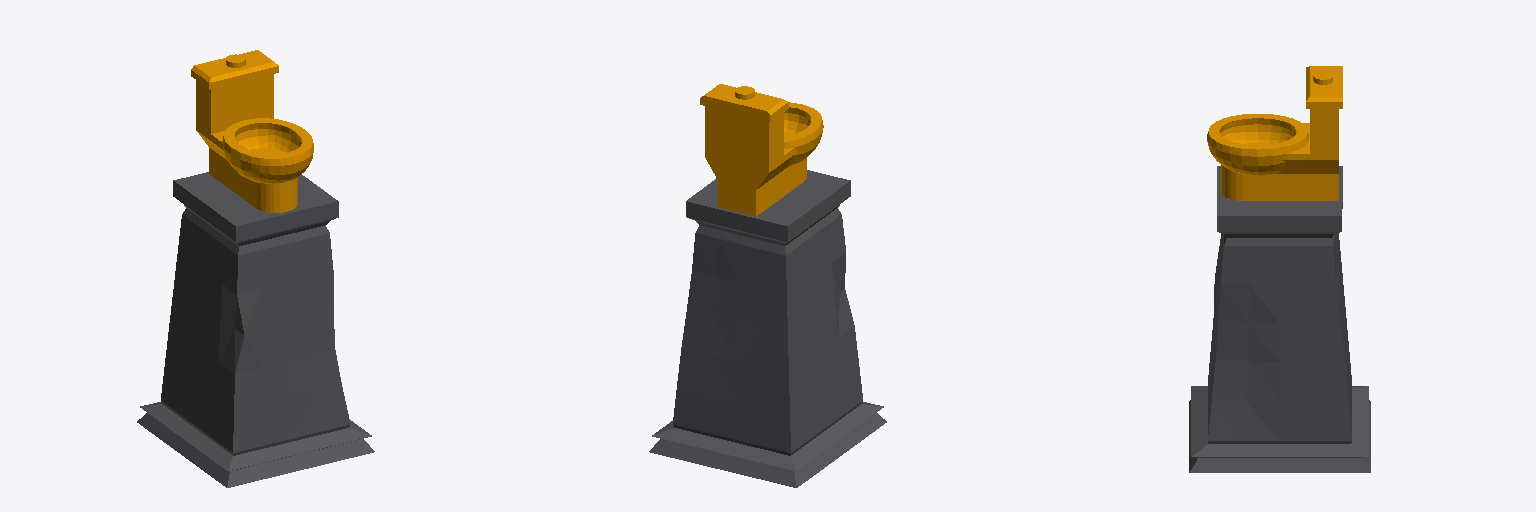
Rendered from toilet.obj.
The picture shows the model from 3 angles: view 1: azimuth 30°, elevation 25°; view 2: azimuth 150°, elevation 25°; view 3: azimuth 270°, elevation 25°; orthographic projection.
Visible parts, largest first — view 1: StatueHolder1, Toiletbowl1, Part1, Toiletseat1, Lid1; view 2: StatueHolder1, Toiletbowl1, Part1, Lid1, Toiletseat1; view 3: StatueHolder1, Toiletbowl1, Toiletseat1, Lid1, Part1.
Boxes of the visible parts, box(x1,y1,x2,y2) form: StatueHolder1: box(137, 172, 374, 487); Toiletbowl1: box(196, 124, 313, 212); Part1: box(196, 74, 273, 133); Toiletseat1: box(222, 118, 313, 165); Lid1: box(191, 50, 278, 89); StatueHolder1: box(649, 170, 886, 487); Toiletbowl1: box(705, 113, 823, 216); Part1: box(705, 106, 783, 165); Lid1: box(700, 84, 788, 121); Toiletseat1: box(784, 102, 823, 148); StatueHolder1: box(1189, 166, 1370, 472); Toiletbowl1: box(1207, 123, 1338, 200); Toiletseat1: box(1207, 114, 1308, 156); Lid1: box(1306, 66, 1342, 108); Part1: box(1310, 109, 1338, 153).
Size of the model in its own units: 9.03 by 21.07 by 9.55.